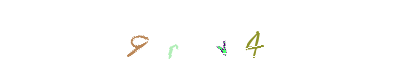4: (182, 0, 262, 80)
9: (148, 0, 228, 80)
R: (160, 0, 240, 80)
V: (162, 0, 242, 80)
